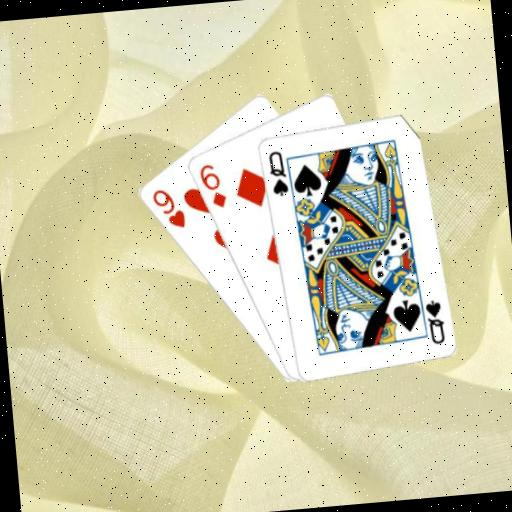6D: (195, 160, 228, 211)
9H: (148, 184, 187, 232)
QS: (264, 147, 290, 199), (421, 296, 447, 346)
